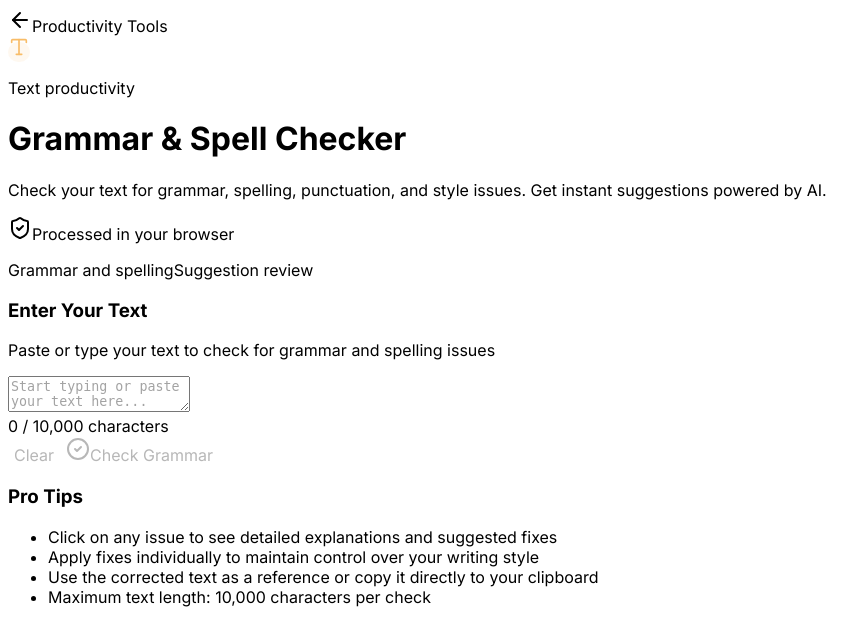
Scenario: Grammar Checker Page › Clear Functionality › clears text when clear button is clicked
The image size is (843, 624).
Step 1. Type "Test text" into the text box with placeholder "Start typing or paste your text here..." → (99, 394), box [8,376,190,412]
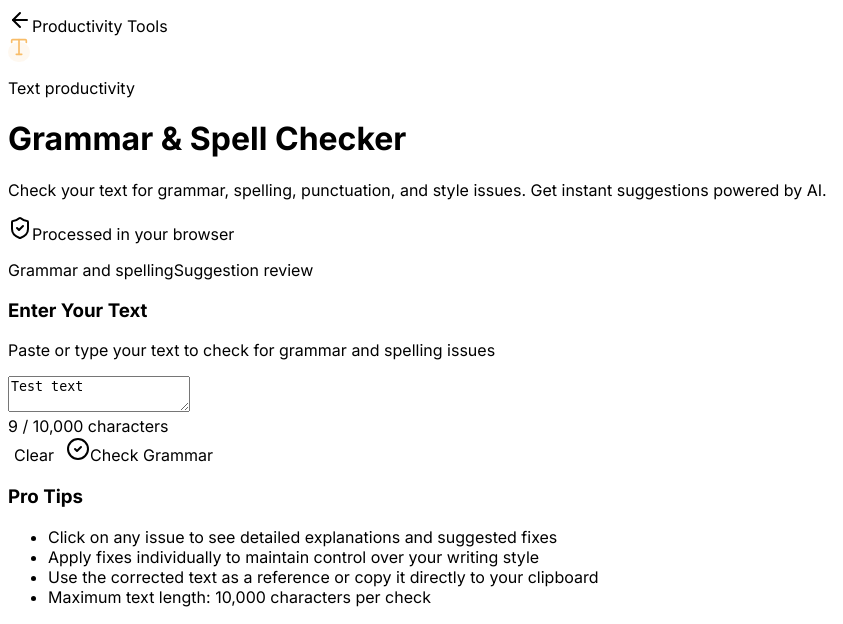
Step 2. Click the button "Clear" → (34, 455), box [8,444,60,466]
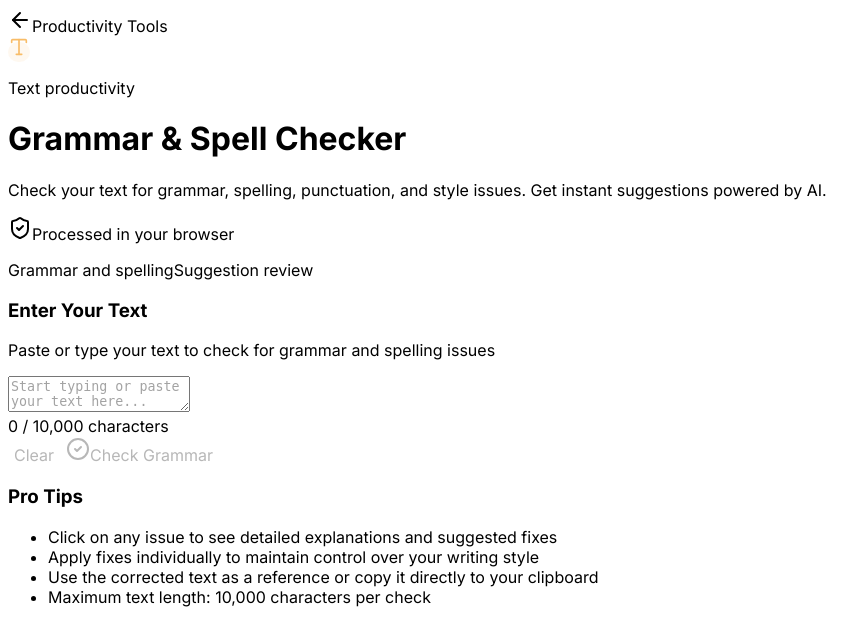
Check: the text box with placeholder "Start typing or paste your text here..." is empty, box [8,376,190,412]
